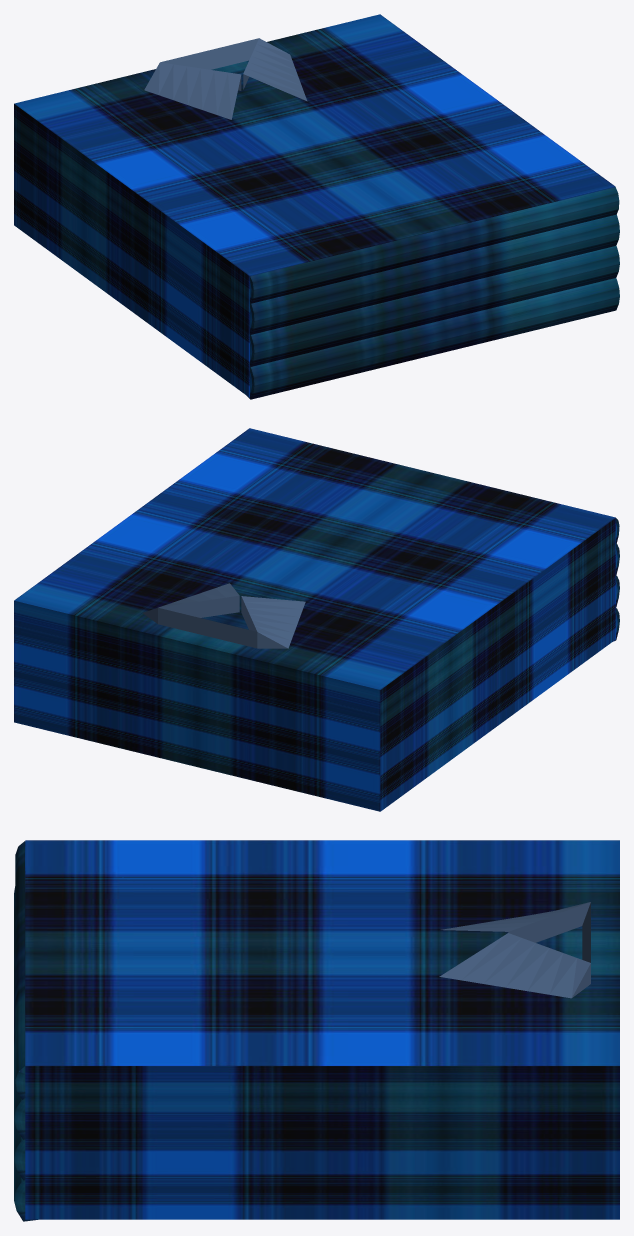
File: Shirts.fbx
The picture shows the model from 3 angles, top to bottom: view 1: azimuth 30°, elevation 25°; view 2: azimuth 150°, elevation 25°; view 3: azimuth 270°, elevation 25°; orthographic projection. The views are drawn at different scales.
Parts seen in each view (by area): view 1: pPipe10; view 2: pPipe10; view 3: pPipe10.
Part boxes in pixels (left/top/right/bottom): pPipe10: left=14, top=14, right=619, bottom=399; pPipe10: left=14, top=428, right=619, bottom=811; pPipe10: left=14, top=840, right=619, bottom=1221.
Size of the model in its own units: 0.9136 by 0.3342 by 1.04.
